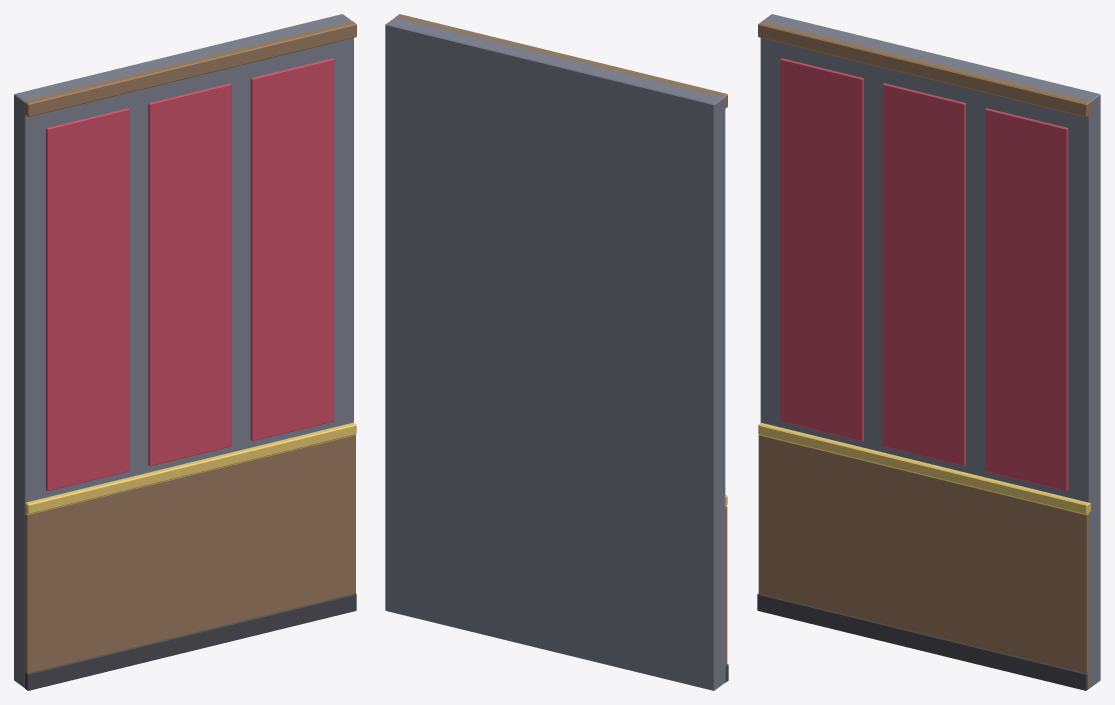
File: cinema-multiplex-and-foyer-foyer-wall-panel-module-92f4c202__34675.glb
3 renders of one model, left to right at view 1: azimuth 30°, elevation 25°; view 2: azimuth 150°, elevation 25°; view 3: azimuth 330°, elevation 25°, orthographic.
Visible parts, largest first — view 1: foyer-wall-panel-module; view 2: foyer-wall-panel-module; view 3: foyer-wall-panel-module.
Boxes of the visible parts, <box> form: foyer-wall-panel-module: <box>14,14,356,690</box>; foyer-wall-panel-module: <box>385,14,728,690</box>; foyer-wall-panel-module: <box>757,14,1100,690</box>.
Size of the model in its own units: 2 by 3.4 by 0.151.
